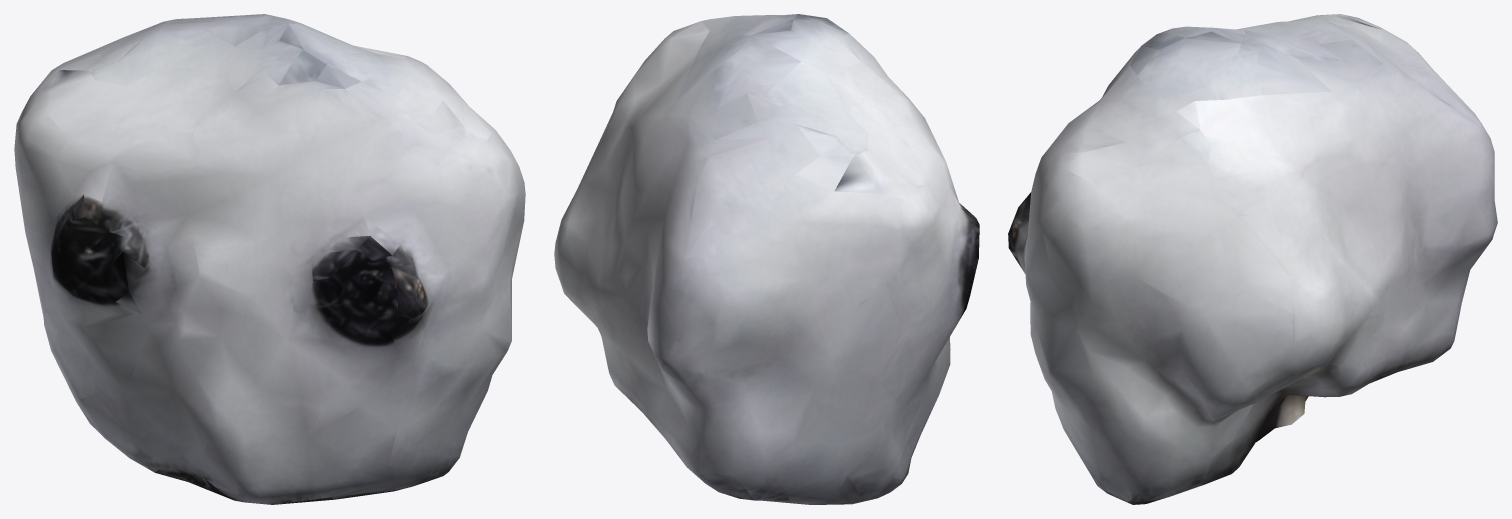
File: mainSoul_90%.fbx
The picture shows the model from 3 angles, left to right: view 1: azimuth 30°, elevation 25°; view 2: azimuth 150°, elevation 25°; view 3: azimuth 270°, elevation 25°; orthographic projection. The views are drawn at different scales.
Parts seen in each view (by area): view 1: Default_fracturepart; view 2: Default_fracturepart; view 3: Default_fracturepart.
Boxes of the visible parts, x1,y1,x2,y2 form: Default_fracturepart: (14,14,525,504); Default_fracturepart: (554,14,979,504); Default_fracturepart: (1008,14,1497,504).
Size of the model in its own units: 37.88 by 39.84 by 41.89.
1 material, 1 textured.
